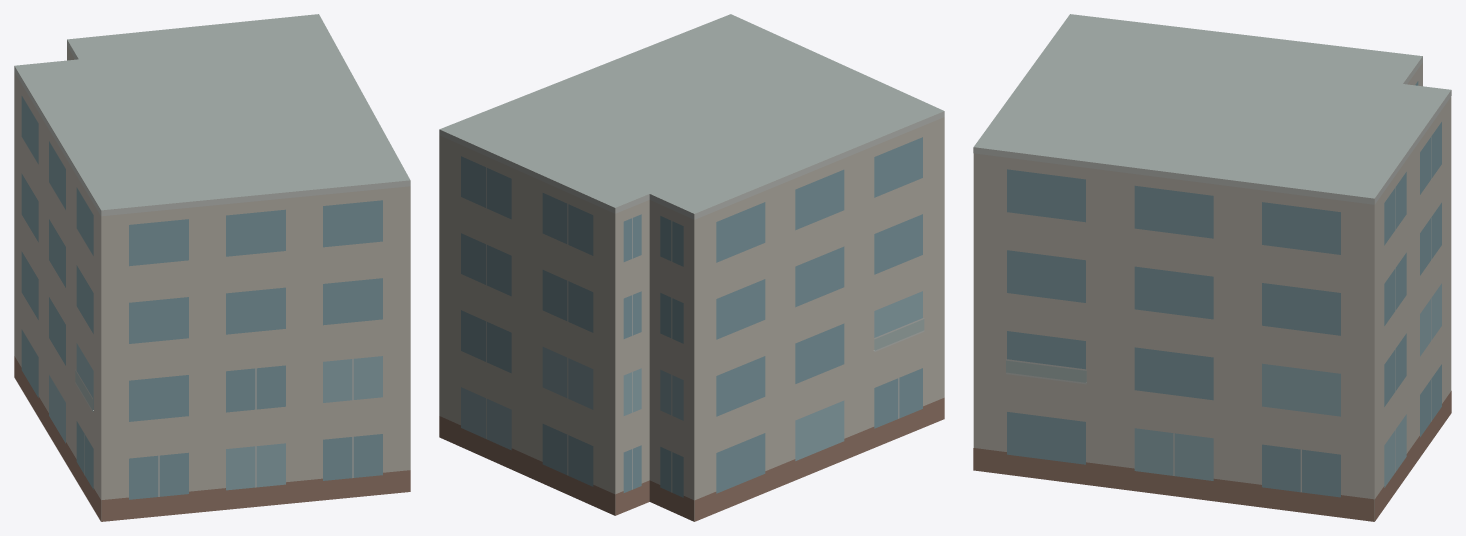
The model's file is survey-upis-32659070.glb.
The picture shows the model from 3 angles, left to right: view 1: azimuth 30°, elevation 25°; view 2: azimuth 150°, elevation 25°; view 3: azimuth 270°, elevation 25°; orthographic projection. The views are drawn at different scales.
Visible parts, largest first — view 1: survey-upis-32659070.tmp; view 2: survey-upis-32659070.tmp; view 3: survey-upis-32659070.tmp.
Part boxes in pixels (x1=…): survey-upis-32659070.tmp: x1=14, y1=14, x2=410, y2=521; survey-upis-32659070.tmp: x1=439, y1=14, x2=944, y2=521; survey-upis-32659070.tmp: x1=973, y1=14, x2=1451, y2=521.
Size of the model in its own units: 15.64 by 12.76 by 17.11.
